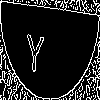Y: (25, 25, 45, 73)
